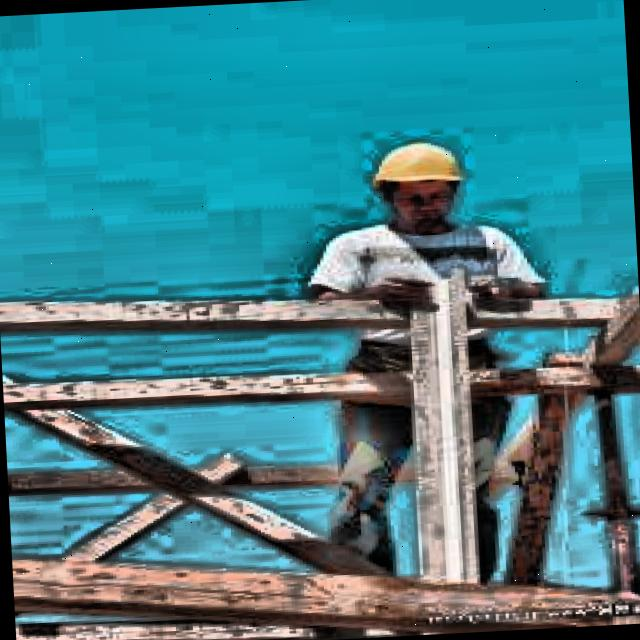helmet: (361, 128, 482, 232)
